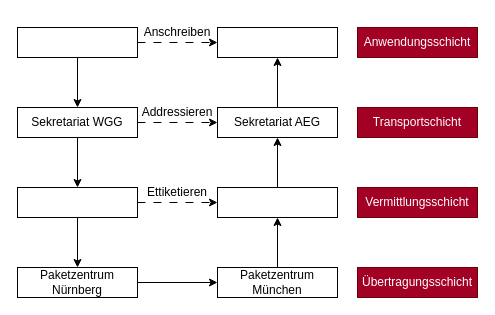
The diagram is 495 pixels wide and 315 high, and some of its shapes have lost their labels. Each missing label, with the centre of its shape:
"Postfiliale München" belongs at (277,202).
"Postfiliale Neumarkt" belongs at (77,202).
"Schulleiter AEG" belongs at (277,42).
"Schulleiter WGG" belongs at (77,42).
